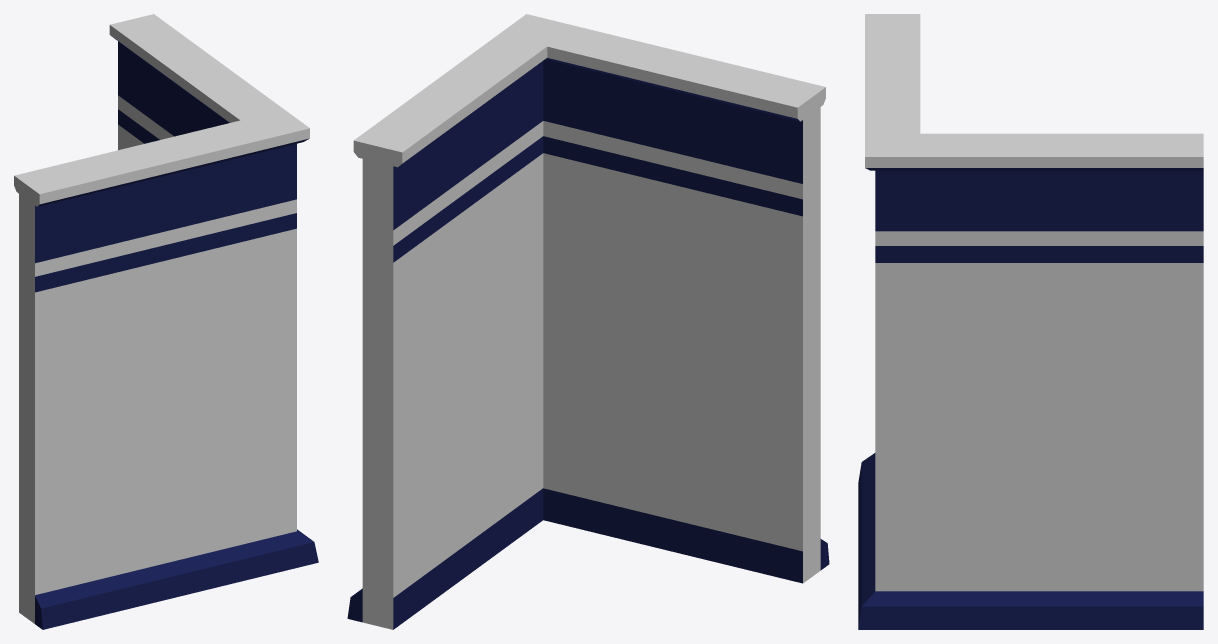
File: wall_1_corner.glb
3 views of the same model, side by side, from view 1: azimuth 30°, elevation 25°; view 2: azimuth 150°, elevation 25°; view 3: azimuth 270°, elevation 25° (orthographic). The views are drawn at different scales.
Parts seen in each view (by area): view 1: Cube; view 2: Cube; view 3: Cube.
Part boxes in pixels (left/top/right/bottom): Cube: left=14, top=14, right=318, bottom=629; Cube: left=347, top=14, right=829, bottom=629; Cube: left=858, top=14, right=1203, bottom=629.
Size of the model in its own units: 2 by 3 by 2.
